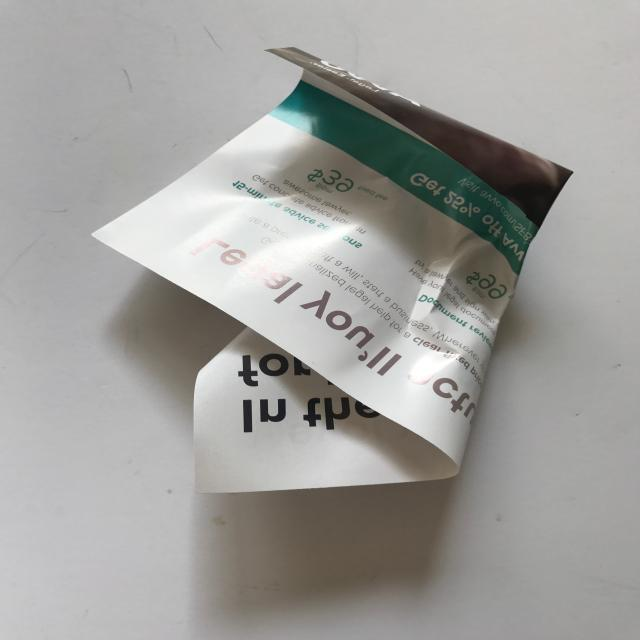paper: (66, 34, 589, 544)
